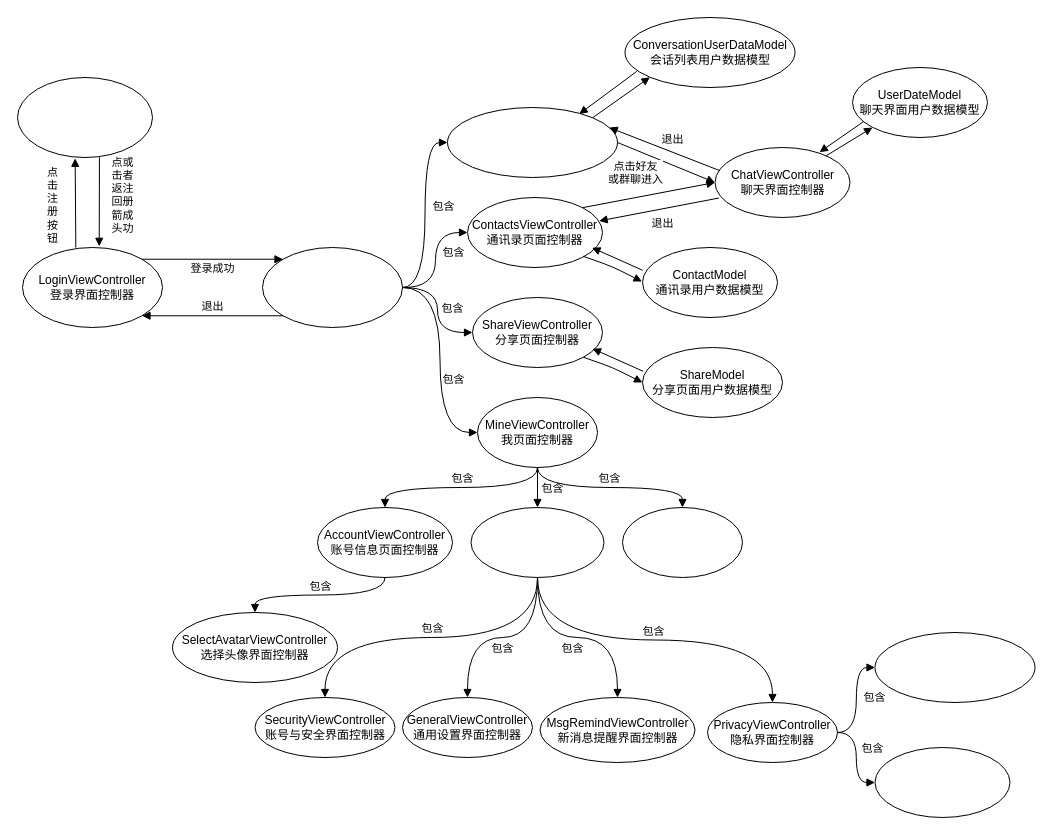
The diagram is 1053 pixels wide and 835 high, and some of its shapes have lost their labels. Each missing label, with the centre of its shape:
"AboutViewController 关于页面控制器" goes at (x=682, y=542).
"AddBlacklistViewController 添加黑名单控制器" goes at (x=954, y=667).
"BlacklistViewController 黑名单界面控制器" goes at (x=942, y=782).
"ConversationsViewController 会话页面控制器" goes at (x=532, y=142).
"HomeViewController 主页界面（根）控制器" goes at (x=332, y=287).
"RegisterViewController 注册界面控制器" goes at (x=84, y=117).
"SettingsViewController 设置页面控制器" goes at (x=537, y=542).
